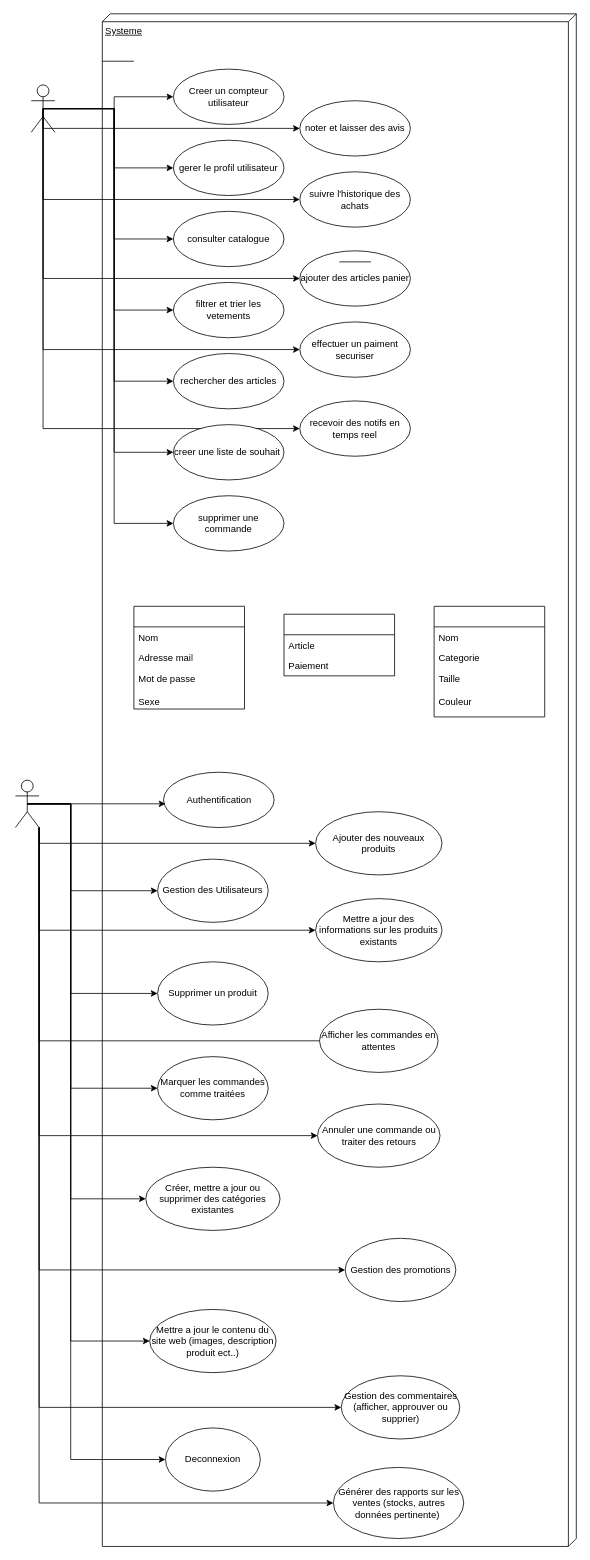
Some shapes in this 590 by 1560 pixel diagram are drawn without their labels. The box of each missing label's shape, as (x1, y1, x2, y2) in pixels:
Admin: (15, 779, 39, 828)
Client: (30, 84, 55, 132)
Panier: (283, 613, 395, 676)
Utilisateur: (133, 606, 245, 709)
Vetements: (433, 606, 545, 717)
